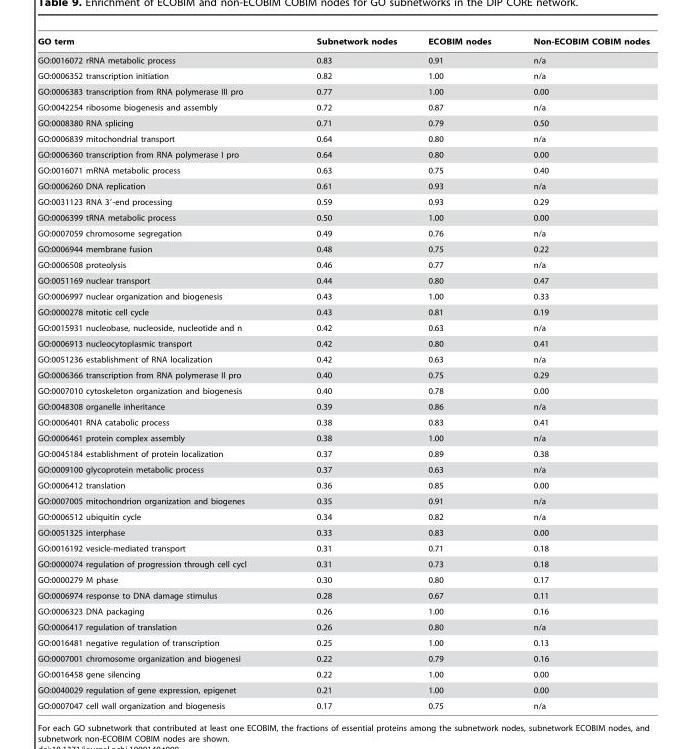table: (37, 36, 649, 710)
table column: (37, 36, 280, 710), (511, 36, 649, 710), (280, 36, 411, 710), (411, 36, 511, 710)
table column header: (37, 36, 649, 50)
table row: (37, 50, 649, 67), (37, 67, 649, 83), (37, 83, 649, 99), (37, 99, 649, 115), (37, 130, 649, 146), (37, 146, 649, 162), (37, 162, 649, 178), (37, 193, 649, 209), (37, 209, 649, 225), (37, 225, 649, 241), (37, 256, 649, 272), (37, 272, 649, 288), (37, 288, 649, 304), (37, 319, 649, 335), (37, 335, 649, 351), (37, 351, 649, 367), (37, 382, 649, 398), (37, 398, 649, 414), (37, 414, 649, 430), (37, 445, 649, 461), (37, 461, 649, 477), (37, 477, 649, 493), (37, 508, 649, 524), (37, 524, 649, 540), (37, 540, 649, 556), (37, 571, 649, 587), (37, 587, 649, 603), (37, 603, 649, 619), (37, 634, 649, 650), (37, 650, 649, 666), (37, 666, 649, 682), (37, 115, 649, 130), (37, 178, 649, 193), (37, 241, 649, 256), (37, 304, 649, 319), (37, 367, 649, 382), (37, 430, 649, 445), (37, 493, 649, 508), (37, 556, 649, 571), (37, 619, 649, 634), (37, 682, 649, 697), (37, 36, 649, 50), (37, 697, 649, 710)
